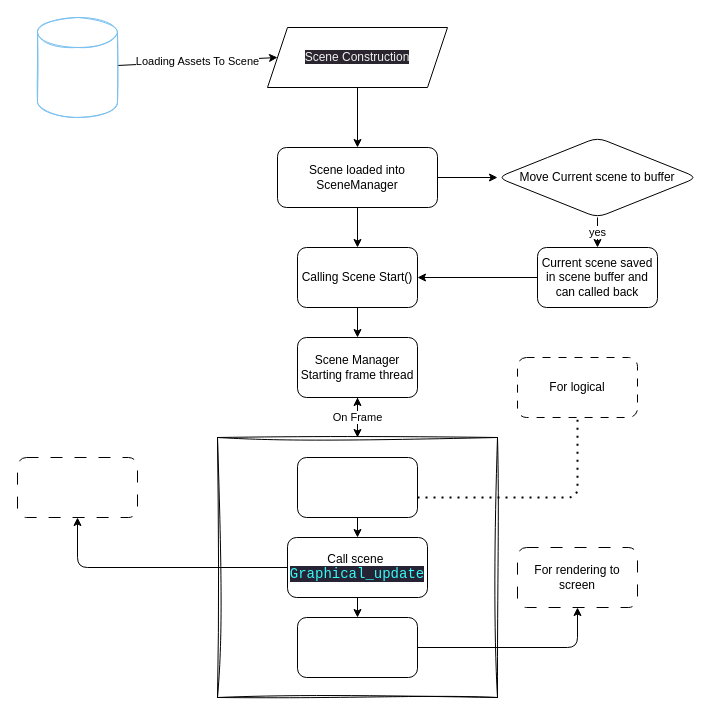
This 715x715 diagram has some shape labels left out. Here are the shapes that lost their labels. From the top down, the centre of each, then its label:
At (x=77, y=67): "AssetsCache".
At (x=77, y=487): "For graphical updates".
At (x=357, y=487): "Call Scene Frame_update".
At (x=357, y=647): "Call Scene Render_objects".
